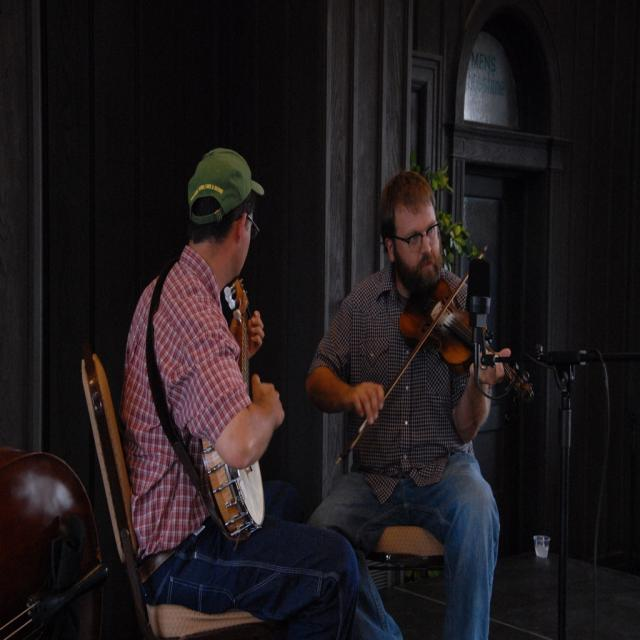Hat: (187, 148, 264, 222)
